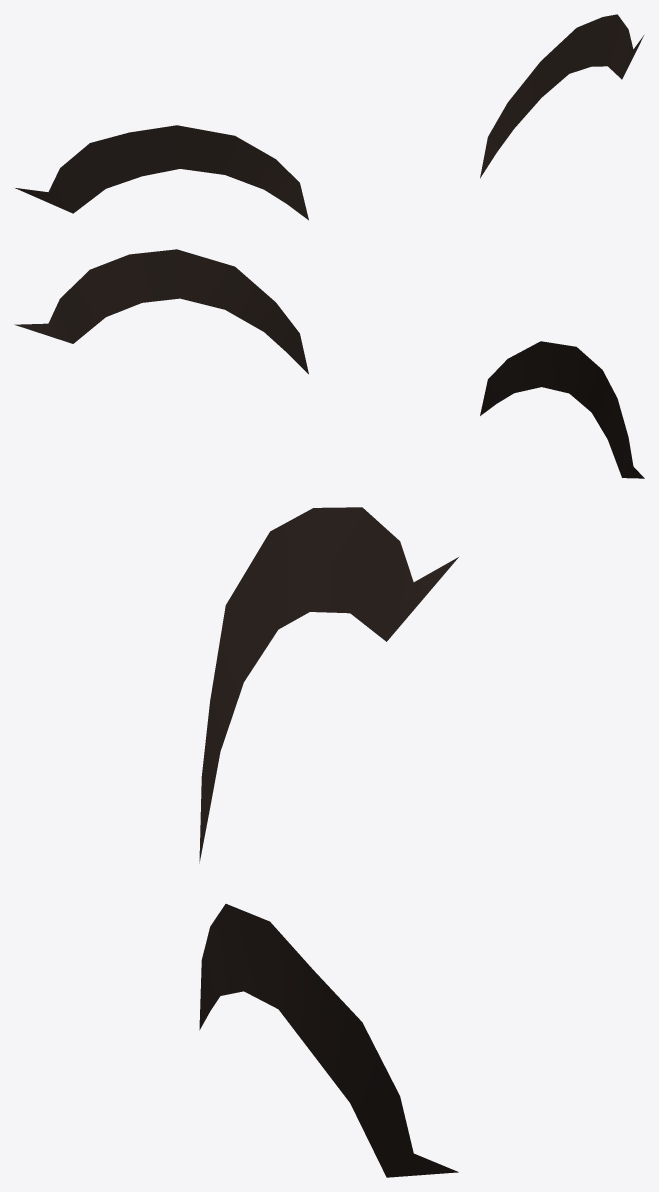
File: Eye_1.fbx
3 renders of one model, top to bottom at view 1: azimuth 30°, elevation 25°; view 2: azimuth 150°, elevation 25°; view 3: azimuth 270°, elevation 25°, orthographic. The views are drawn at different scales.
Parts seen in each view (by area): view 1: Eye_1; view 2: Eye_1; view 3: Eye_1.
Part boxes in pixels (left/top/right/bottom): Eye_1: left=15, top=14, right=643, bottom=220; Eye_1: left=14, top=249, right=644, bottom=478; Eye_1: left=199, top=507, right=458, bottom=1177.
Bounding box in the file's own units: 38.7 × 6.47 × 6.91.
